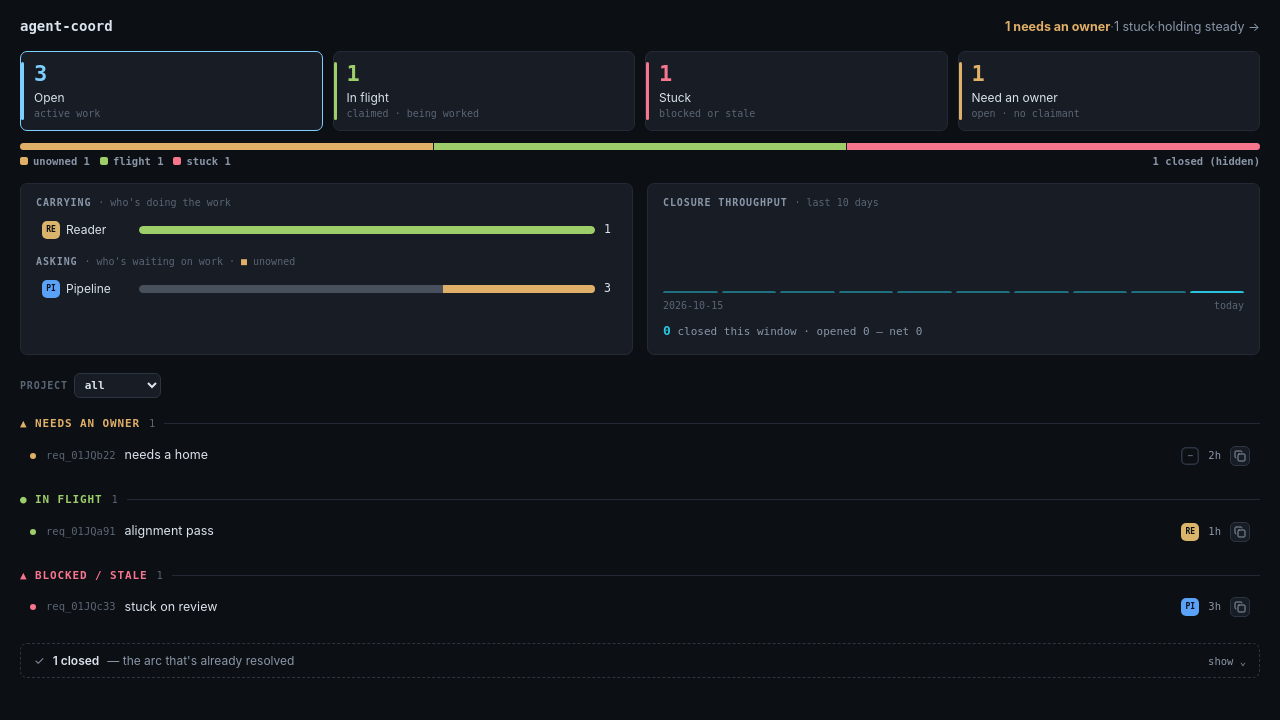
Board — stat click-to-filter › clicking "Stuck" narrows the work lists to just the stuck group
The image size is (1280, 720).
Click the button with test id "board-stat-stuck". click: (675, 98)
box: x1=645 y1=51 x2=948 y2=131
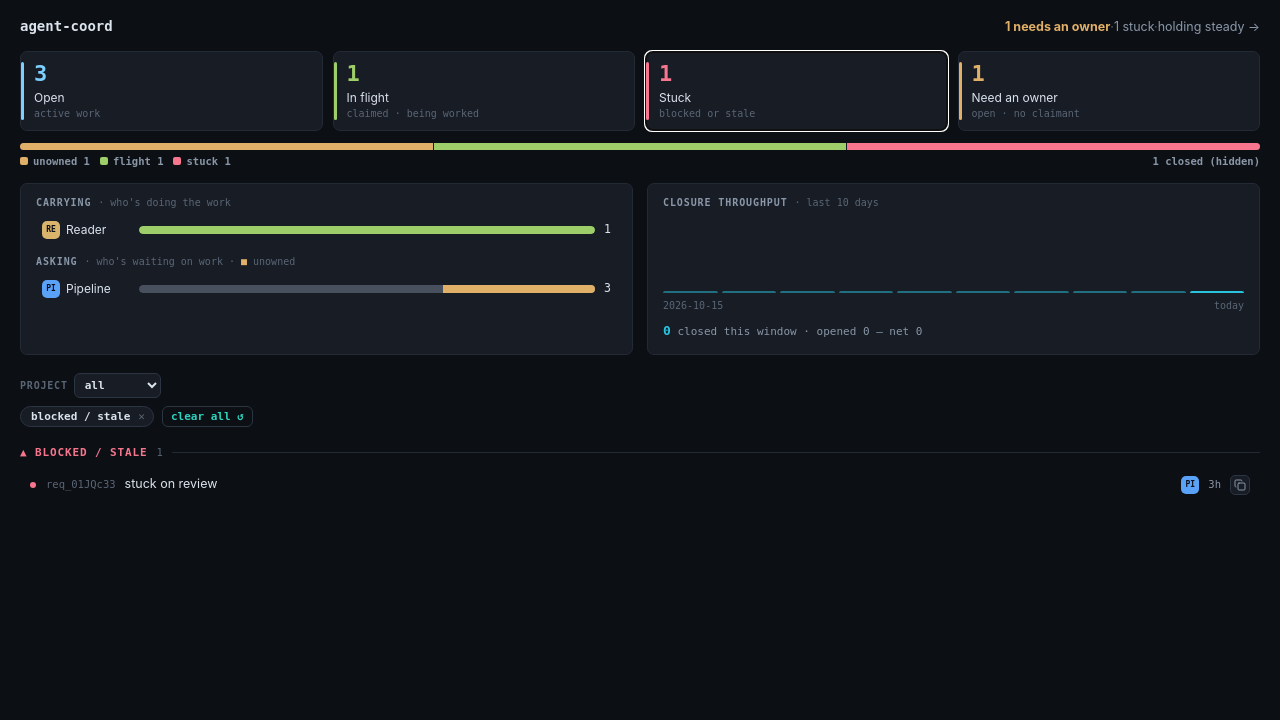
Expected: the button "needs a home" is gone
Expected: the button "alignment pass" is gone
Expected: the element with test id "board-filter-chips" shows "blocked / stale", x1=31 y1=410 x2=130 y2=423
